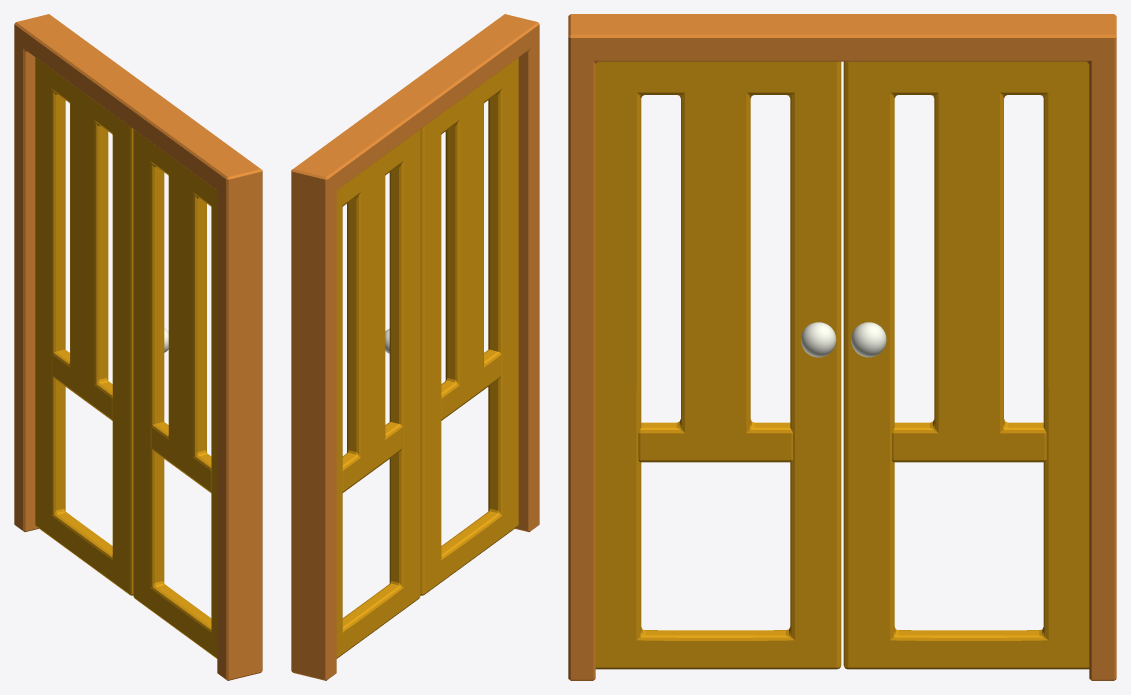
File: Shadow_Door.fbx
The picture shows the model from 3 angles, left to right: view 1: azimuth 30°, elevation 25°; view 2: azimuth 150°, elevation 25°; view 3: azimuth 270°, elevation 25°; orthographic projection. The views are drawn at different scales.
Visible parts, largest first — view 1: Cube, Cube.001, Cube.003; view 2: Cube, Cube.003, Cube.001; view 3: Cube.001, Cube.003, Cube.
Boxes of the visible parts, box(x1,y1,x2,y2) form: Cube: box(14, 14, 262, 680); Cube.001: box(35, 57, 133, 595); Cube.003: box(133, 129, 217, 658); Cube: box(291, 14, 539, 680); Cube.003: box(420, 57, 518, 595); Cube.001: box(336, 129, 420, 658); Cube.001: box(843, 61, 1089, 669); Cube.003: box(595, 61, 841, 669); Cube: box(568, 14, 1116, 680).
Bounding box in the file's own units: 40.74 × 483 × 371.
